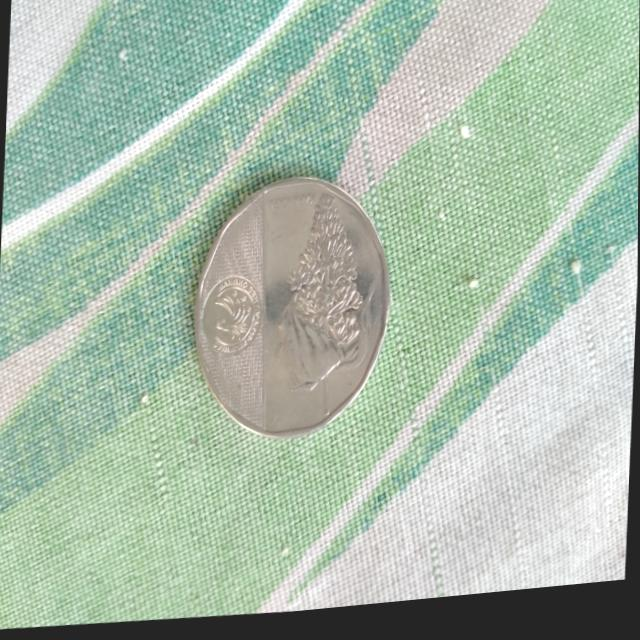10_New_Back: (265, 176, 390, 443)
